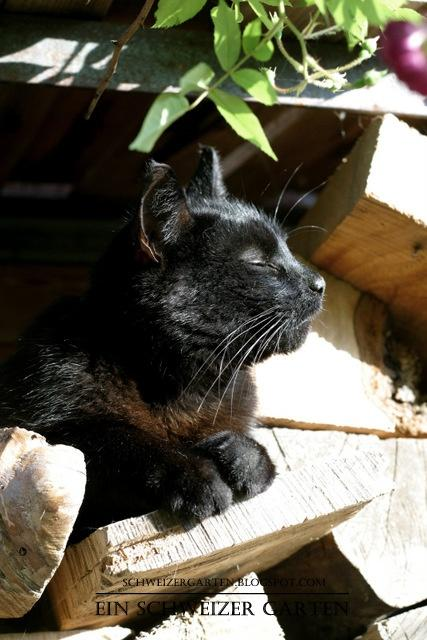kedo: (12, 149, 326, 520)
